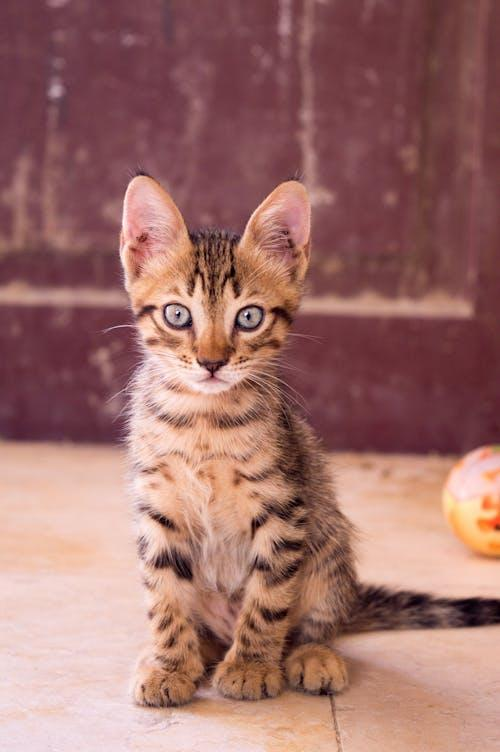kedo: (118, 172, 500, 712)
